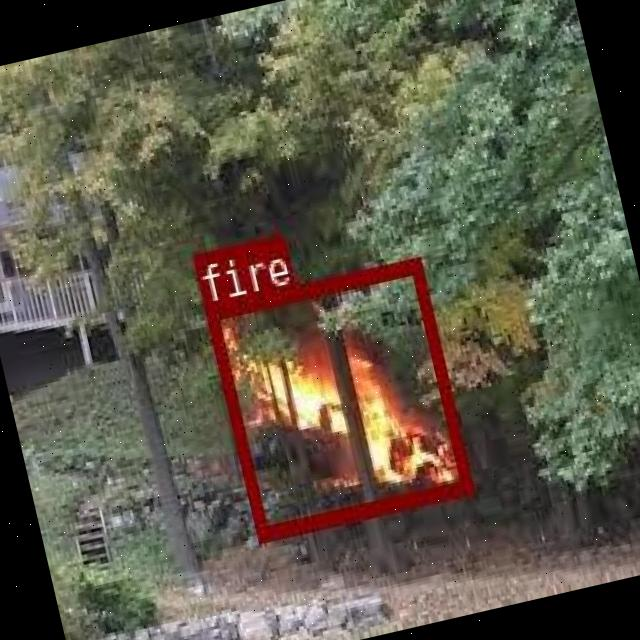fire: (204, 254, 471, 540)
